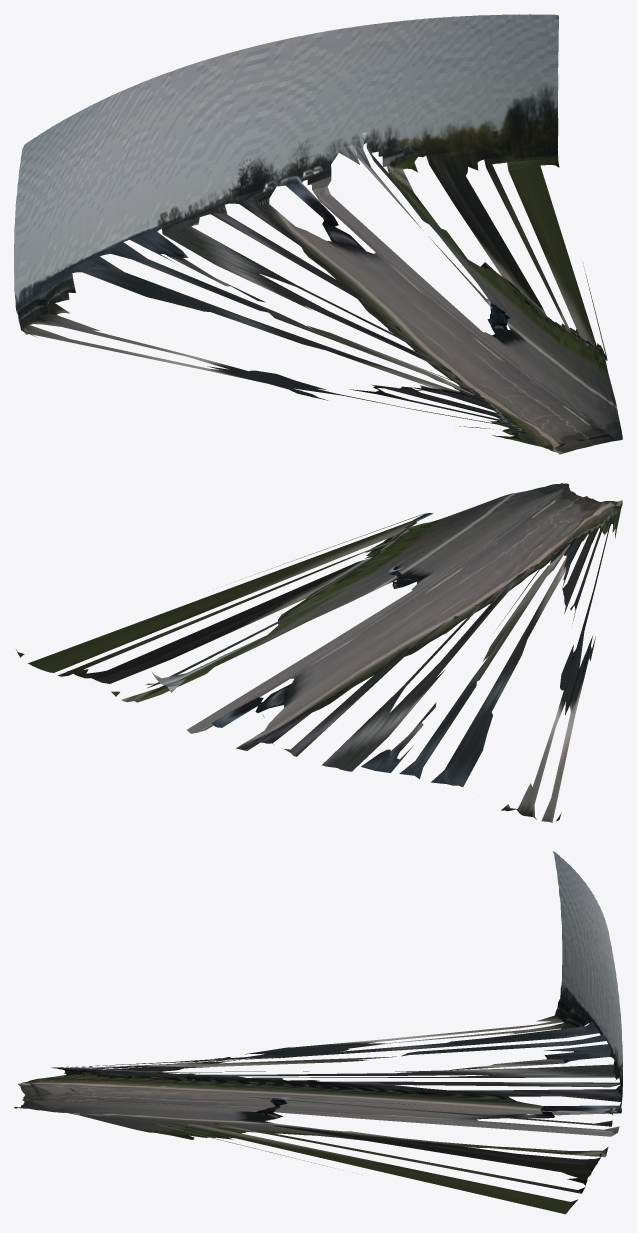
The picture shows the model from 3 angles, top to bottom: view 1: azimuth 30°, elevation 25°; view 2: azimuth 150°, elevation 25°; view 3: azimuth 270°, elevation 25°; orthographic projection. The views are drawn at different scales.
Visible parts, largest first — view 1: defaultobject; view 2: defaultobject; view 3: defaultobject.
Part boxes in pixels (x1,y1,x2,y2): defaultobject: [14, 14, 622, 454]; defaultobject: [16, 483, 622, 822]; defaultobject: [14, 851, 622, 1214].
Bounding box in the file's own units: 41.16 × 14.56 × 44.86.
Materials: 1 (1 with a texture image).
